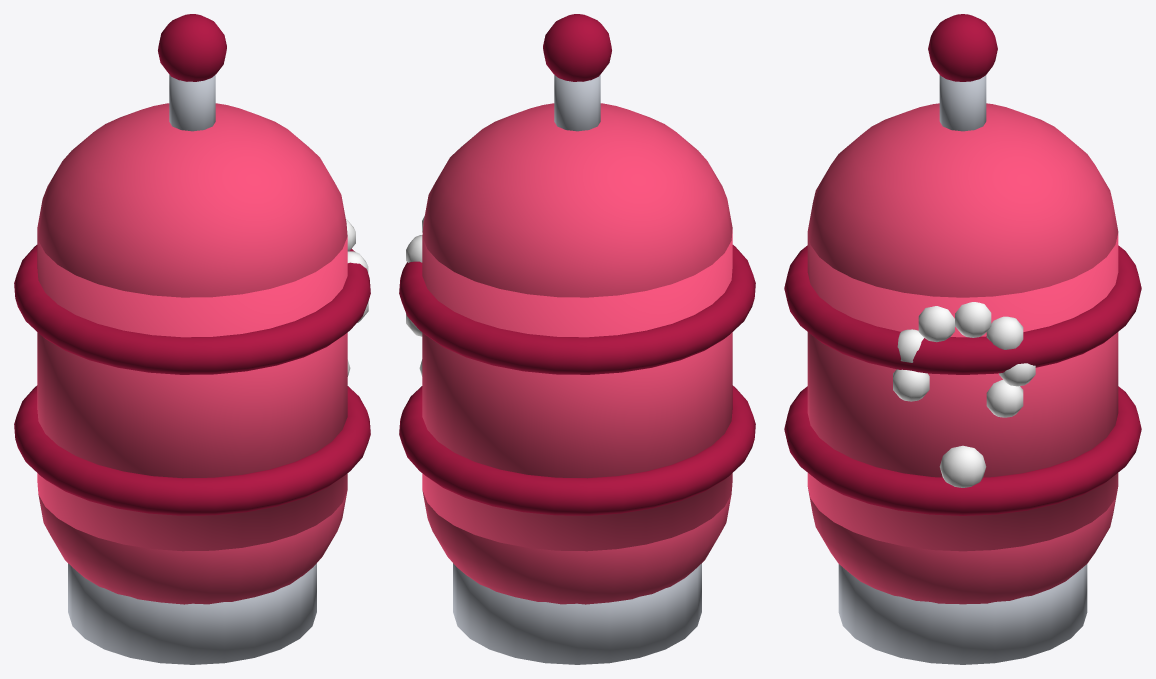
The model's file is SM_Capsule_Mythic.fbx.
3 renders of one model, left to right at view 1: azimuth 30°, elevation 25°; view 2: azimuth 150°, elevation 25°; view 3: azimuth 270°, elevation 25°, orthographic.
Parts seen in each view (by area): view 1: SM_Capsule_Mythic; view 2: SM_Capsule_Mythic; view 3: SM_Capsule_Mythic.
Boxes of the visible parts, box(x1,y1,x2,y2) form: SM_Capsule_Mythic: box(14, 14, 370, 664); SM_Capsule_Mythic: box(399, 14, 755, 664); SM_Capsule_Mythic: box(784, 14, 1141, 664).
Size of what is drawn, in the model's own units: 0.46 by 0.845 by 0.46.
Materials: 1 (1 with a texture image).
